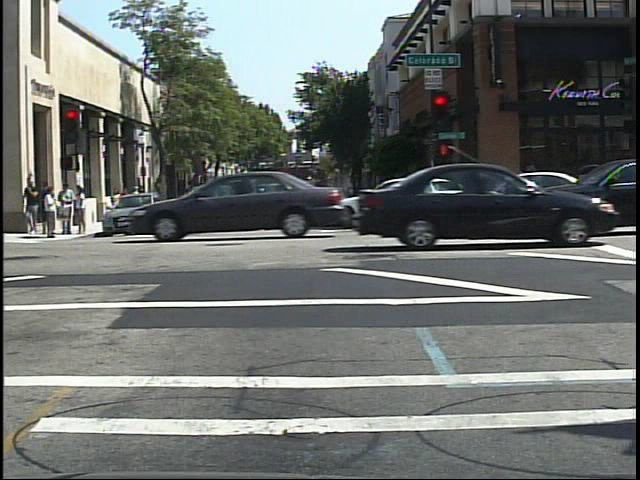person: (137, 181, 154, 221), (126, 181, 144, 218)
